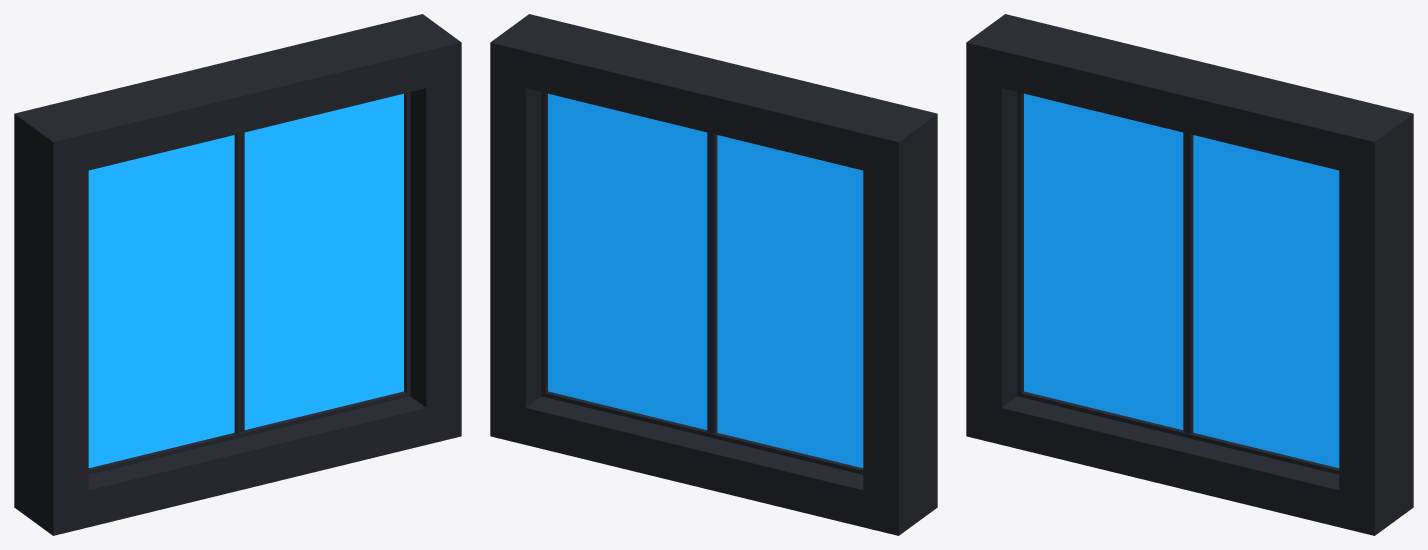
Rendered from janela_quadrada_folhas_preta.glb.
3 renders of one model, left to right at view 1: azimuth 30°, elevation 25°; view 2: azimuth 150°, elevation 25°; view 3: azimuth 330°, elevation 25°, orthographic.
Parts seen in each view (by area): view 1: janela_quadrada_folhas_preta; view 2: janela_quadrada_folhas_preta; view 3: janela_quadrada_folhas_preta.
Boxes of the visible parts, <box> form: janela_quadrada_folhas_preta: <box>14,14,461,535</box>; janela_quadrada_folhas_preta: <box>490,14,937,535</box>; janela_quadrada_folhas_preta: <box>966,14,1413,535</box>.
Size of the model in its own units: 1.27 by 1.17 by 0.21.
